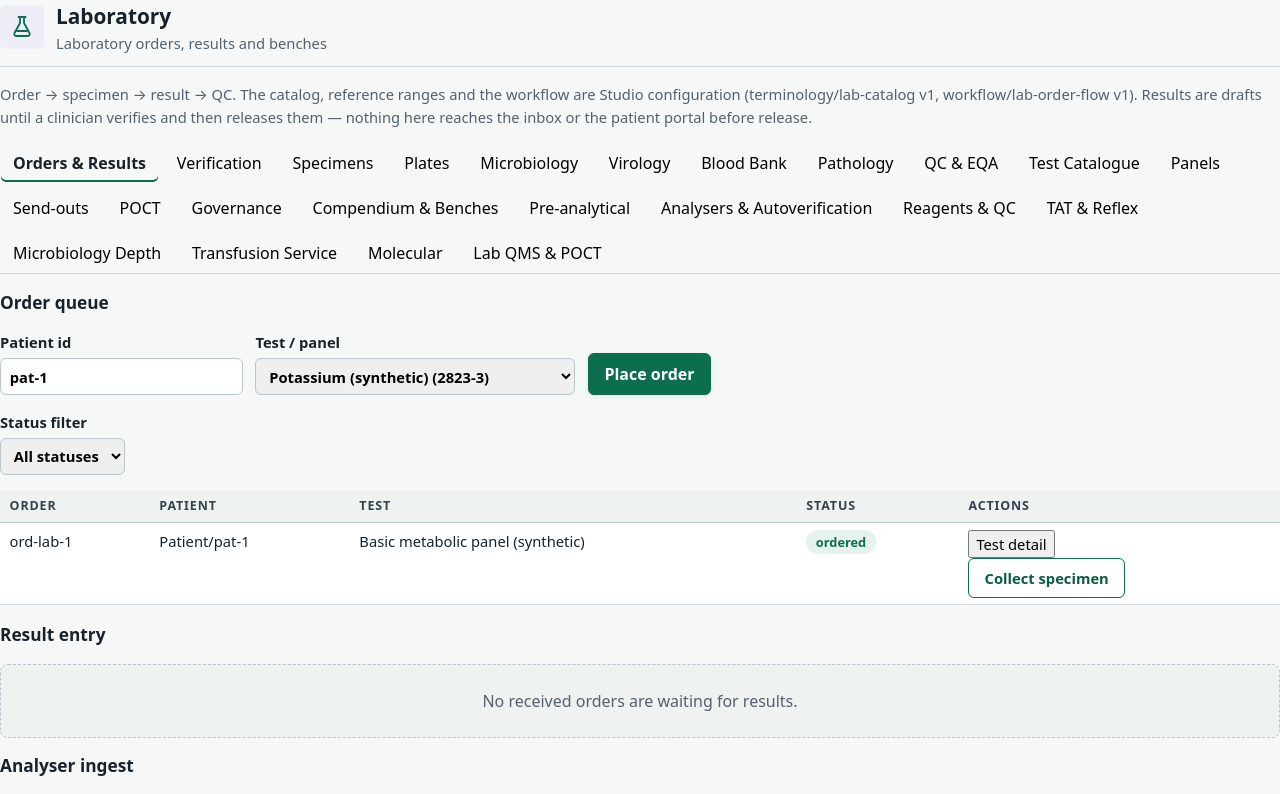
it: LabPage › renders the order queue, verification queue with critical + QC-block state, specimens and QC runs
This screenshot has width=1280, height=794.
Expected: the text "ord-lab-1" is shown, [0,523,150,605]
Click the tab "Verification" at (219, 162), box [164,142,275,183]
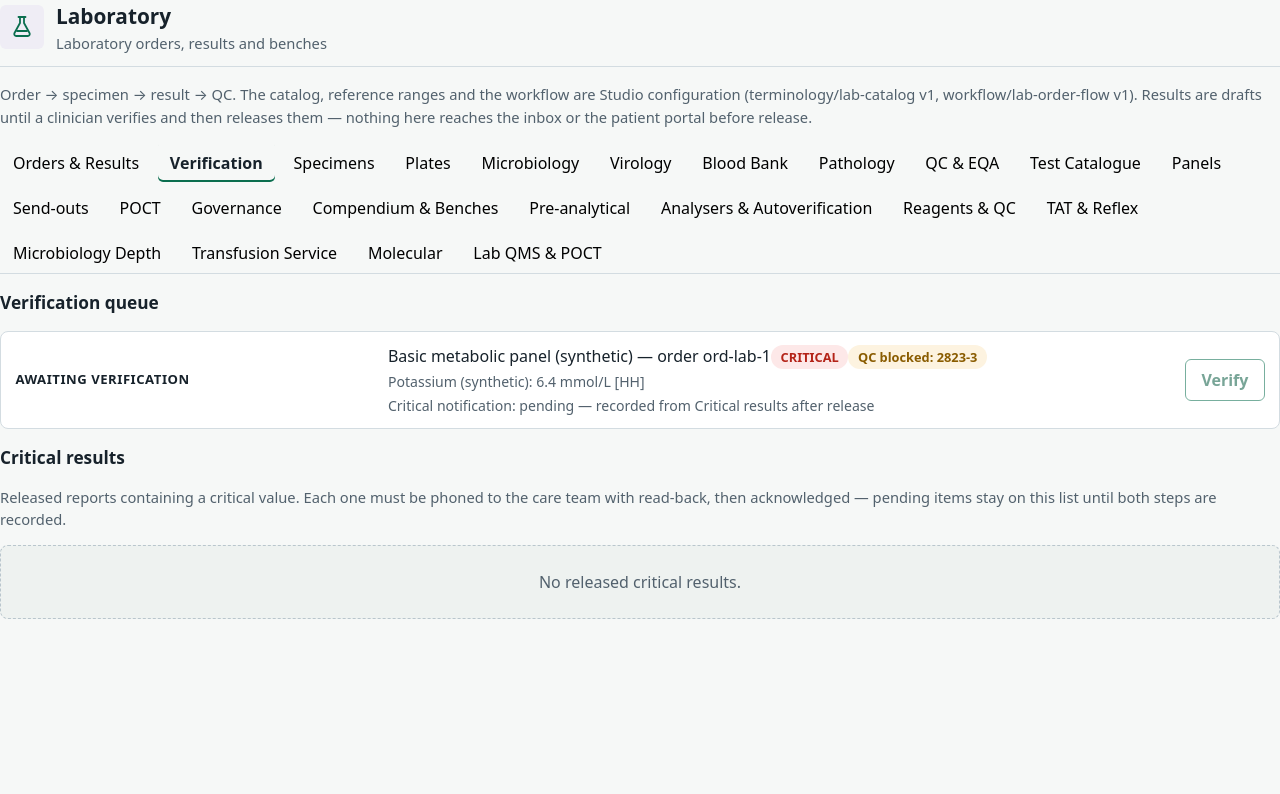
Expected: the text "awaiting verification" is shown, [15,370,190,390]
Expected: the text "CRITICAL" is shown, [771,345,848,369]
Expected: the text "QC blocked: 2823-3" is shown, [848,345,987,369]
Click the tab "Specimens" at (334, 162), box [280,142,388,183]
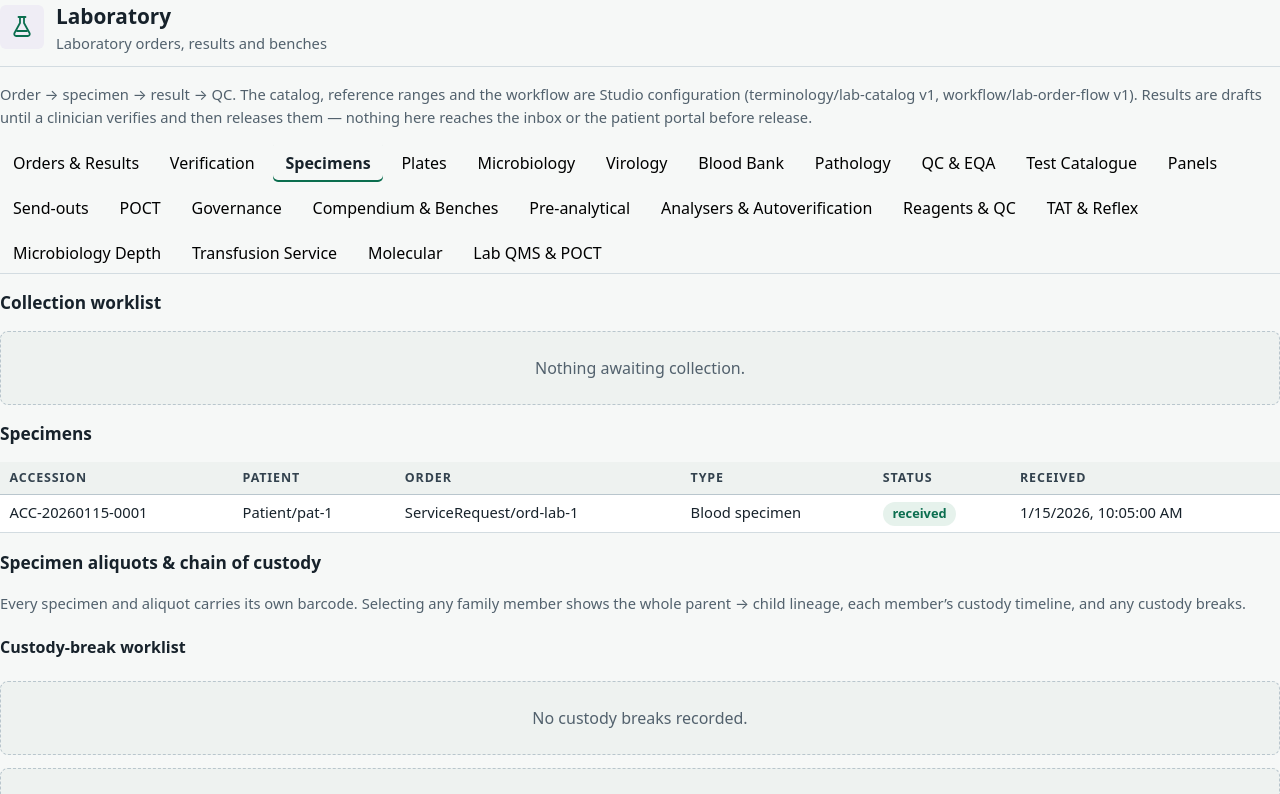
Expected: the text "ACC-20260115-0001" is shown, [0,494,233,533]
Click the tab "QC & EQA" at (958, 162), box [908,142,1008,183]
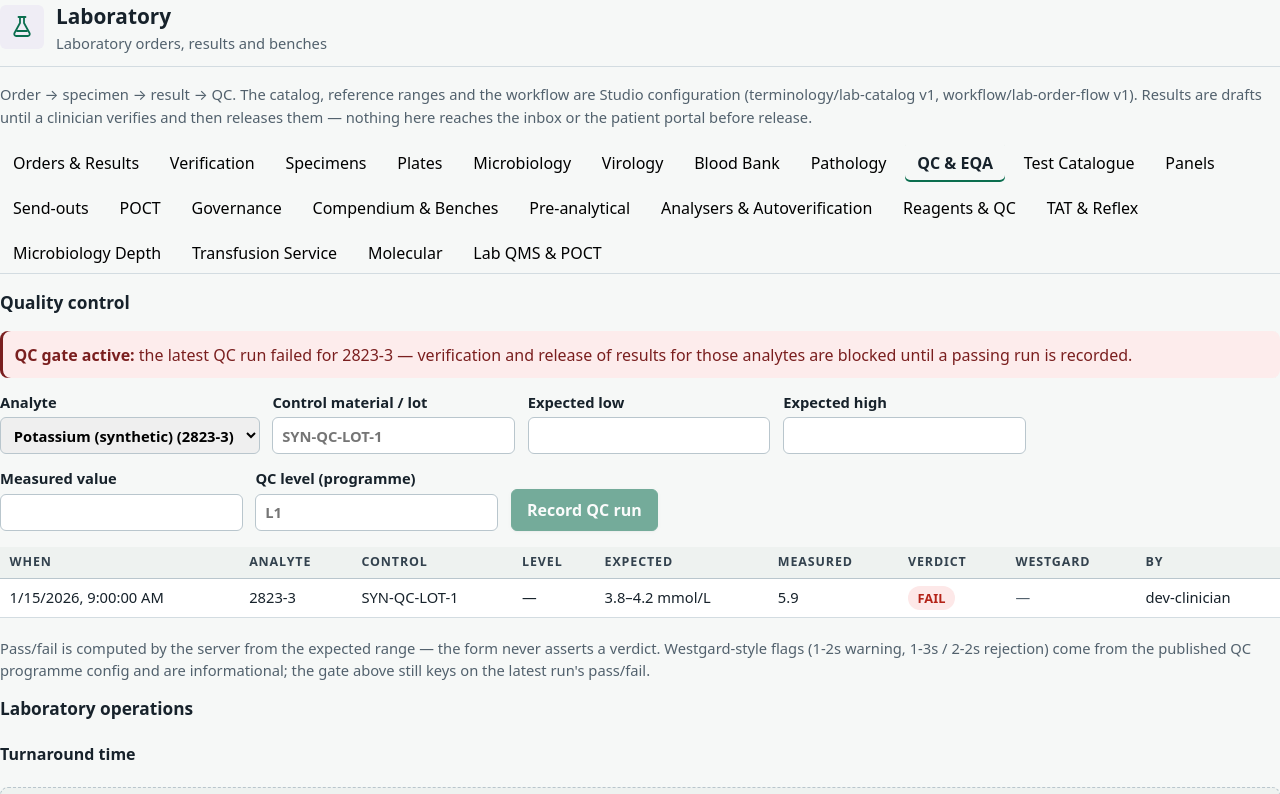
Expected: the text "FAIL" is shown, [908,586,955,610]
Expected: the text "QC gate active:" is shown, [14,344,135,366]
